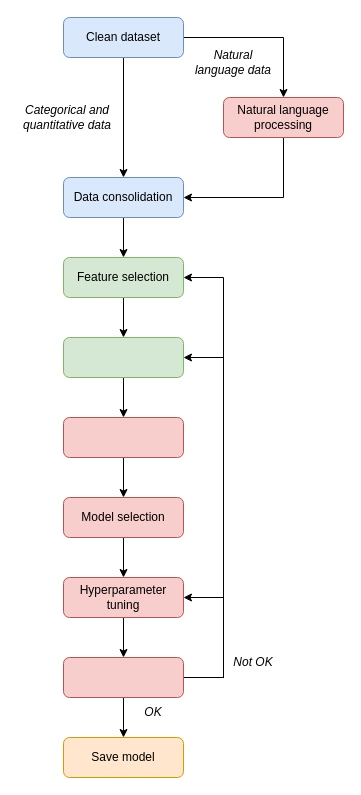
Some shapes in this 361 by 795 pixel diagram are drawn without their labels. The shapes that lost their labels are listed below. From the top down, each one's centre as x and y in pixels, then its label:
At [123,357]: "Feature encoding".
At [123,437]: "Train / test split".
At [123,677]: "Results assessment".
